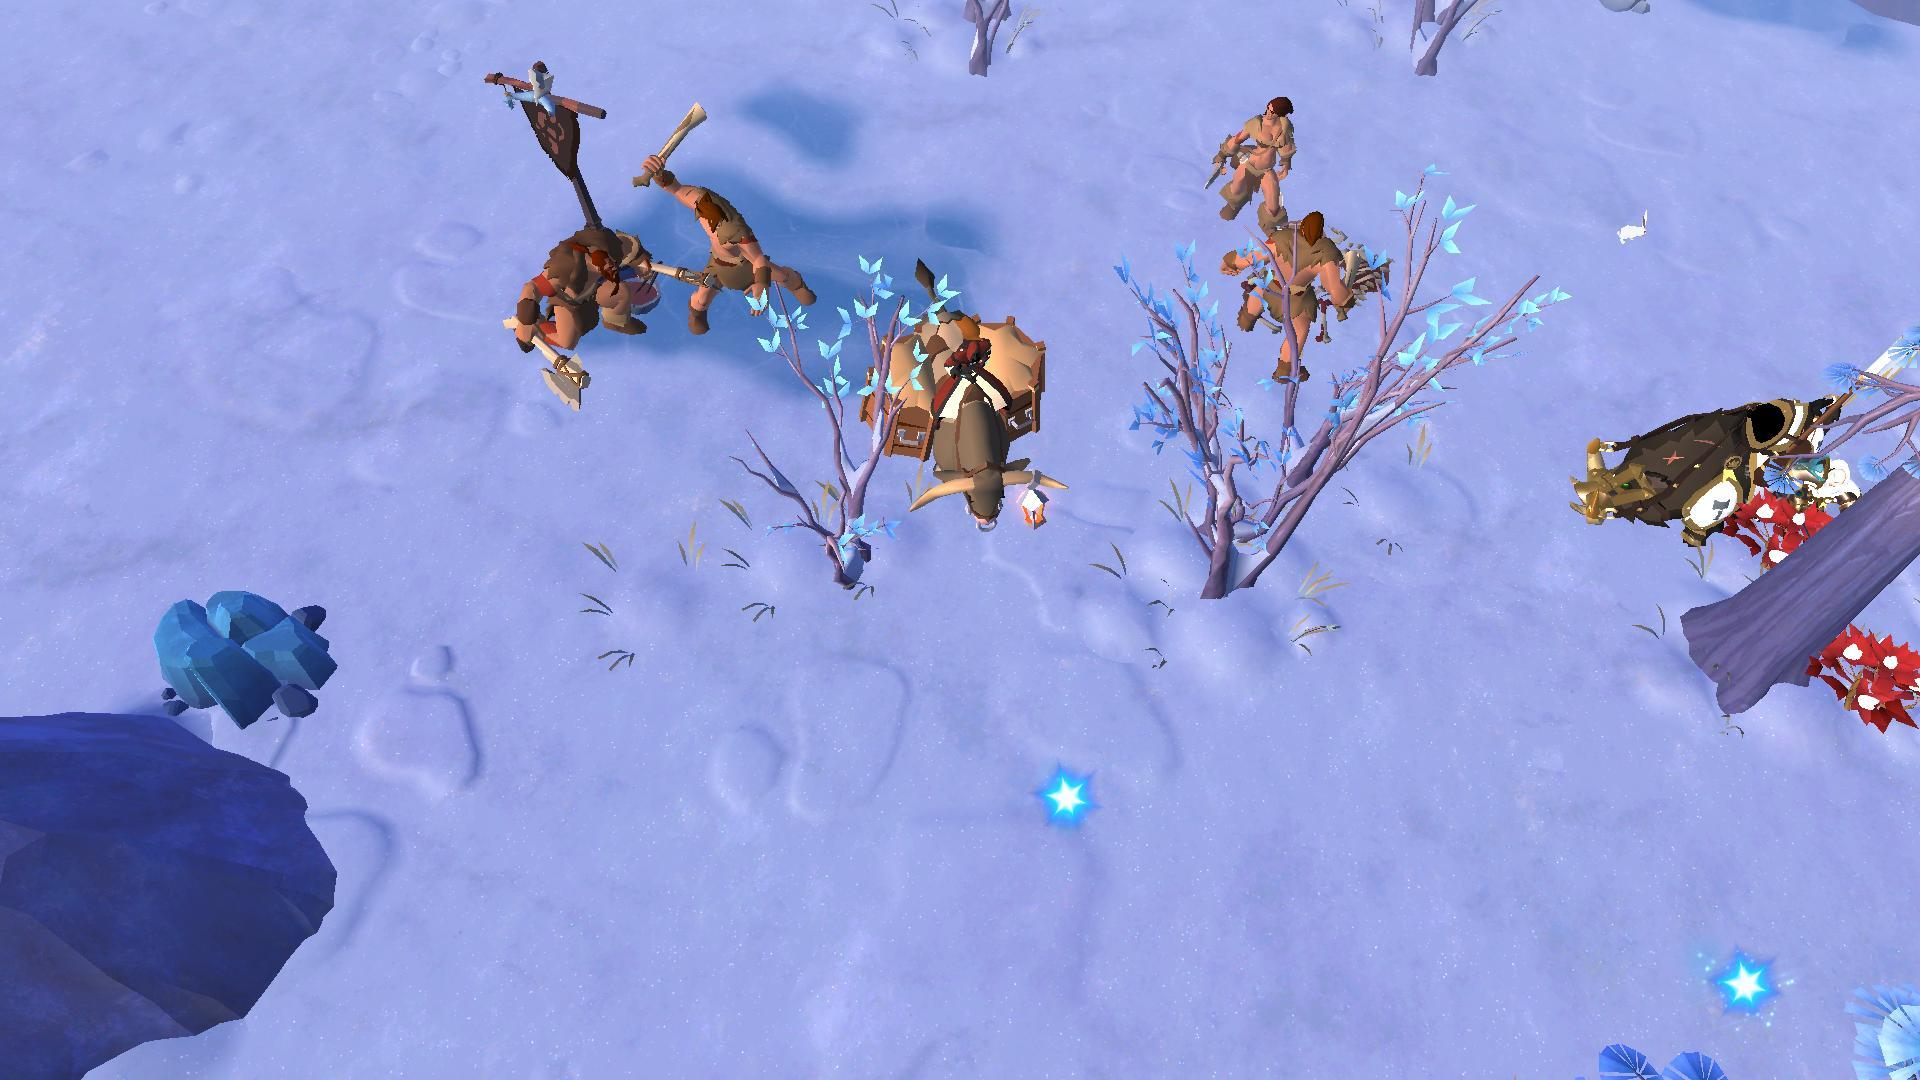enemy_factionKeeper: (636, 88, 802, 326), (509, 219, 655, 393), (1224, 206, 1353, 363), (1209, 92, 1294, 232)
fiber_t5: (1809, 625, 1920, 733), (1738, 497, 1844, 570)
rock_t4: (145, 583, 331, 721)
